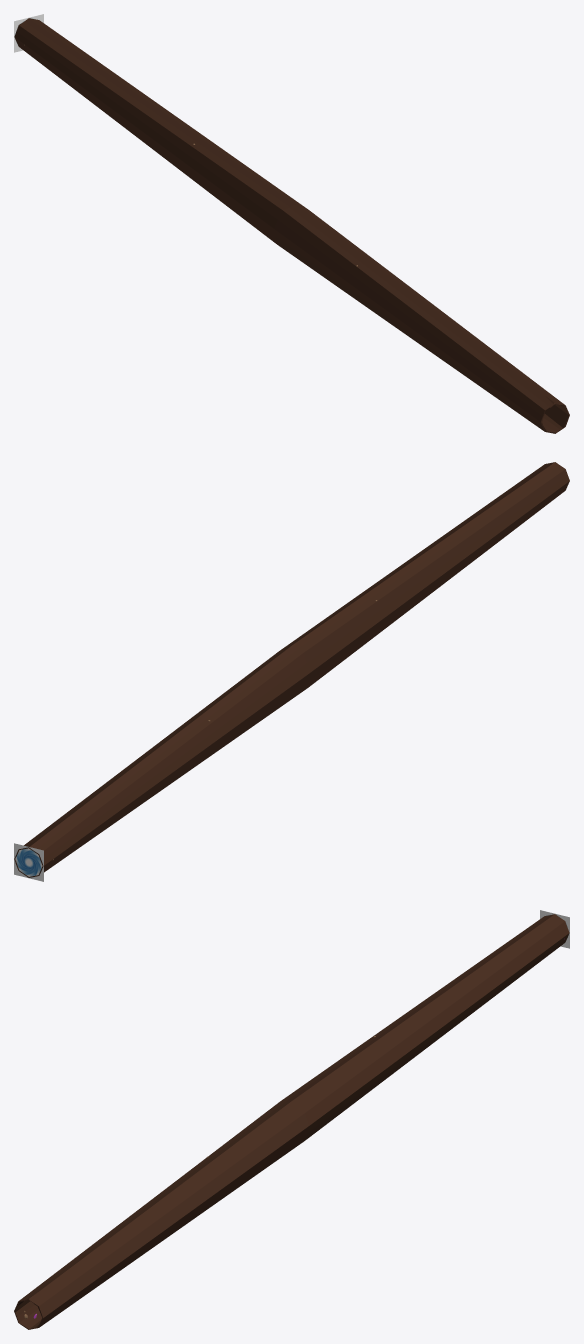
Rendered from rocky-alien-level-3.glb.
The picture shows the model from 3 angles, top to bottom: view 1: azimuth 30°, elevation 25°; view 2: azimuth 150°, elevation 25°; view 3: azimuth 330°, elevation 25°; orthographic projection.
Parts seen in each view (by area): view 1: mineshaft; view 2: mineshaft, Plane; view 3: mineshaft.
Boxes of the visible parts, box(x1,y1,x2,y2) form: mineshaft: box(14, 18, 569, 433); mineshaft: box(14, 462, 569, 877); Plane: box(14, 843, 43, 881); mineshaft: box(14, 914, 569, 1329).
Bounding box in the file's own units: 86.76 × 91.52 × 2003.
Materials: 8 (3 with a texture image).
